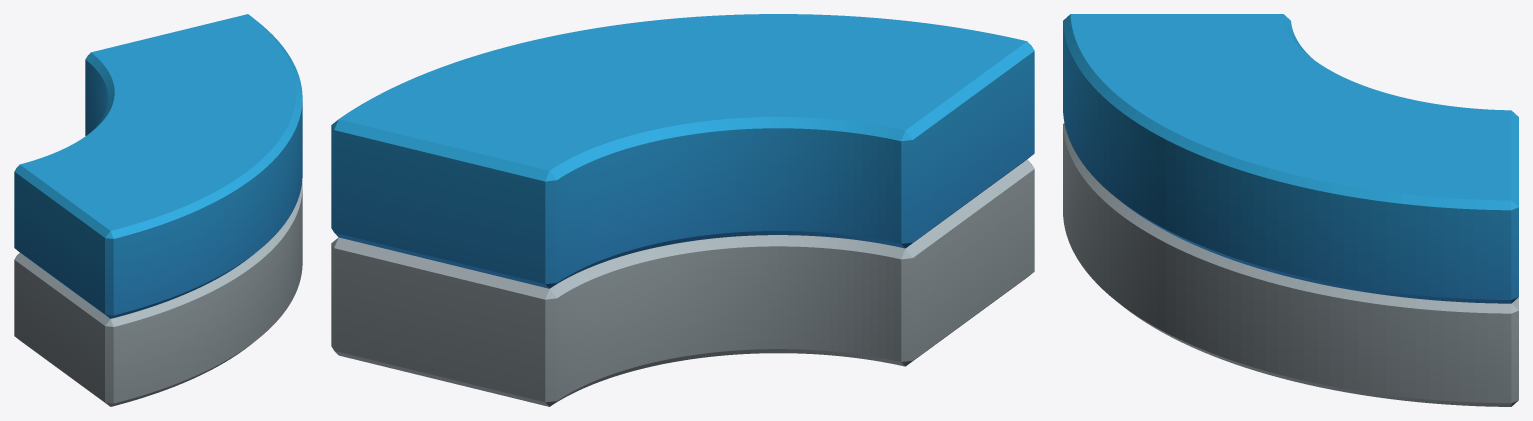
The model's file is quarter_curve_blue.glb.
The picture shows the model from 3 angles, left to right: view 1: azimuth 30°, elevation 25°; view 2: azimuth 150°, elevation 25°; view 3: azimuth 270°, elevation 25°; orthographic projection. The views are drawn at different scales.
Visible parts, largest first — view 1: kaykit_platform_quarter_curve_blue_visual; view 2: kaykit_platform_quarter_curve_blue_visual; view 3: kaykit_platform_quarter_curve_blue_visual.
Part boxes in pixels (x1,y1,x2,y2): kaykit_platform_quarter_curve_blue_visual: (14, 14, 302, 406); kaykit_platform_quarter_curve_blue_visual: (331, 14, 1034, 406); kaykit_platform_quarter_curve_blue_visual: (1063, 14, 1518, 406).
Size of what is drawn, in the model's own units: 2 by 1 by 2.
Materials: 1 (1 with a texture image).
